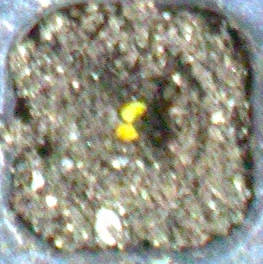chilli seed: (120, 101, 147, 121), (115, 122, 139, 142)
